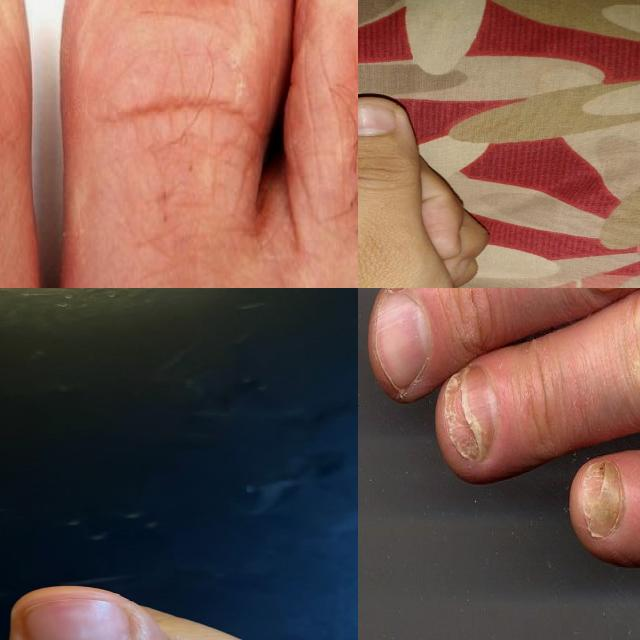diabetes: (442, 366, 496, 464), (581, 459, 624, 540)
sehat: (375, 288, 430, 391), (24, 600, 132, 640), (358, 105, 398, 135)
